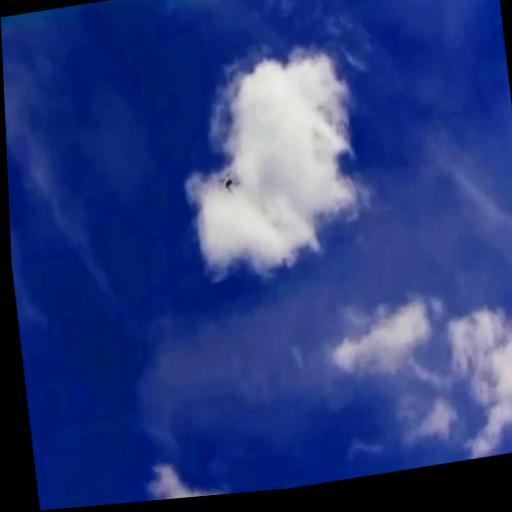drones: (215, 162, 245, 204)
